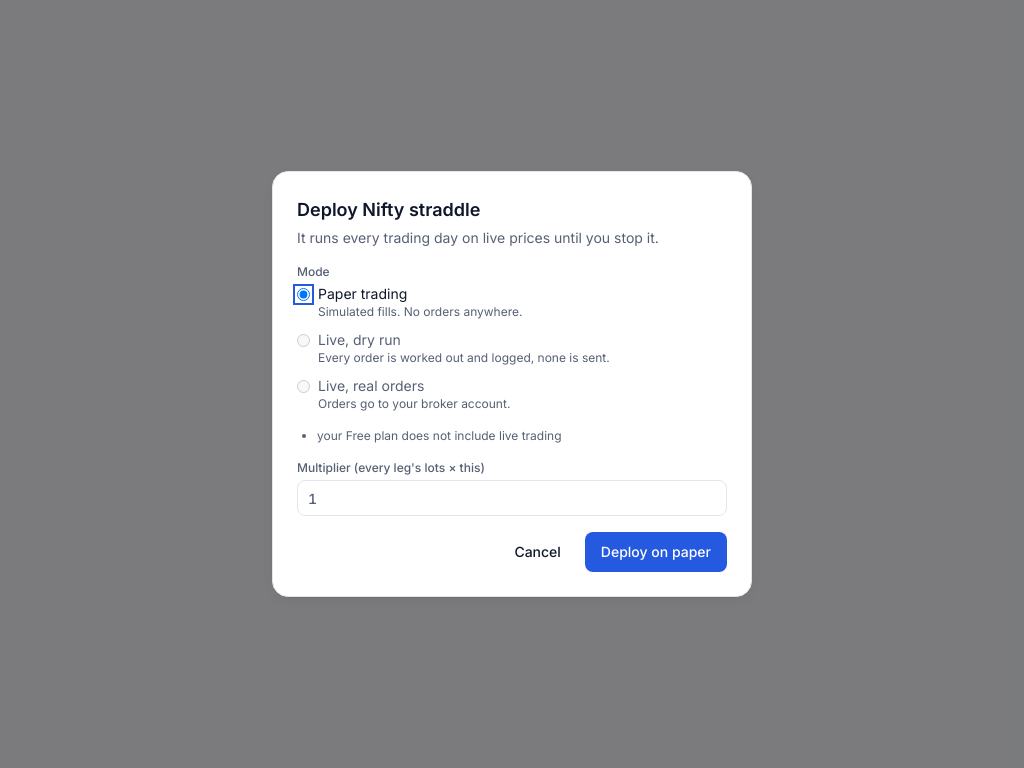
Test: DeployDialog › explains a plan limit
Step 1. Click the button "Deploy on paper" → click(656, 552), box left=585, top=532, right=727, bottom=572
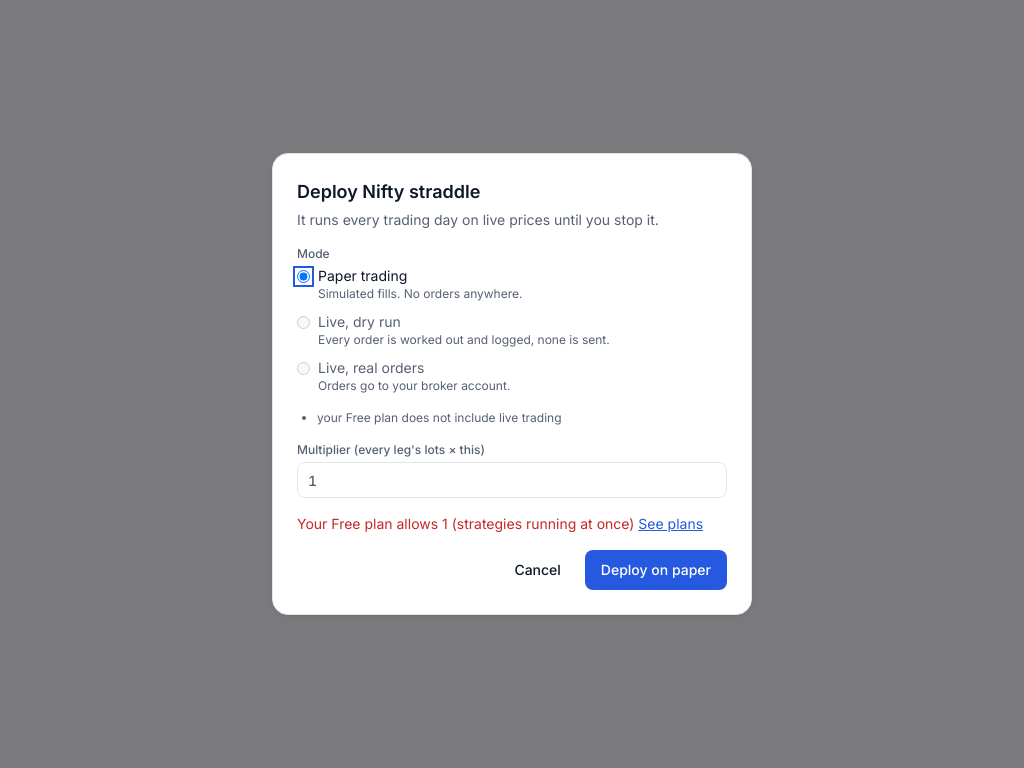
Expected: the message shows "allows 1", left=297, top=515, right=634, bottom=532
Expected: the link "See plans" is shown, left=638, top=515, right=703, bottom=532
